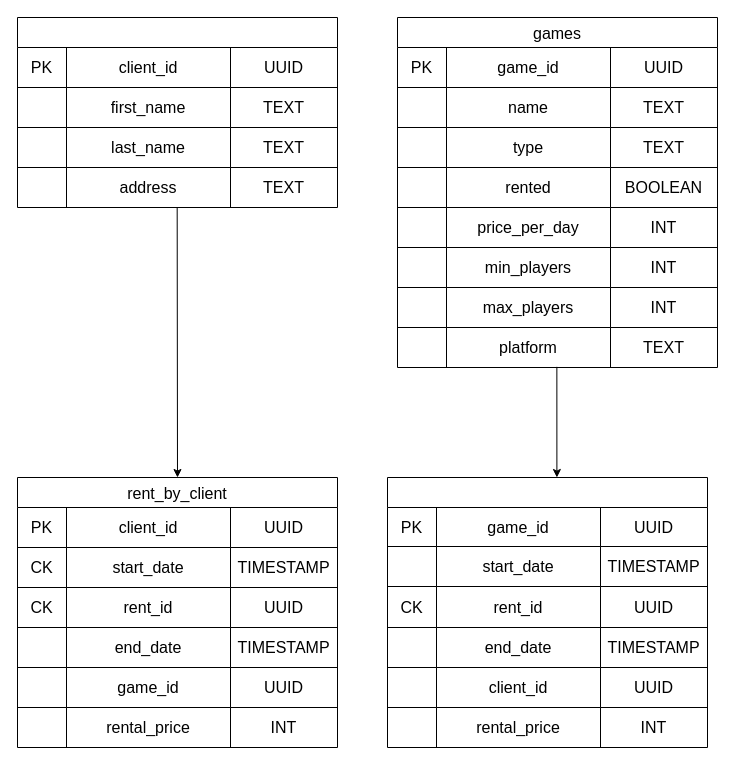
The diagram is 735 pixels wide and 765 high, and some of its shapes have lost their labels. Here are the shapes that lost their labels. From the top down, the box of each, then its label:
(16, 16, 338, 208): clients
(386, 476, 708, 748): rent_by_game
